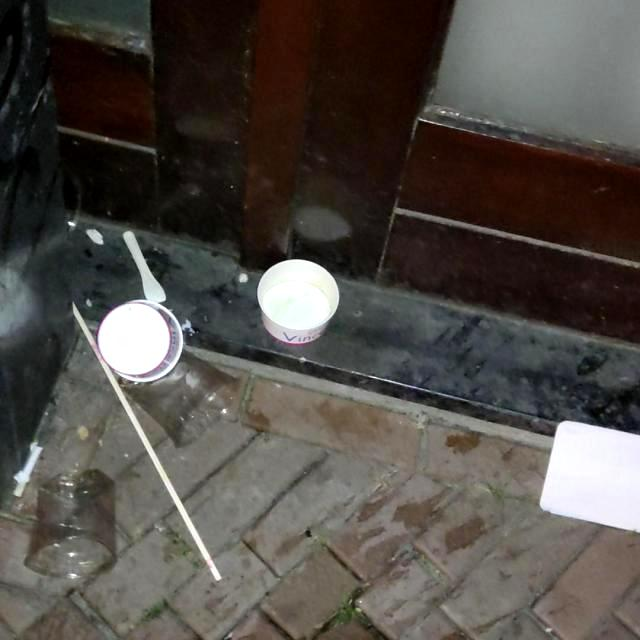Coffee Cup: (538, 419, 640, 533)
Paper: (95, 297, 185, 383), (255, 257, 341, 345)
